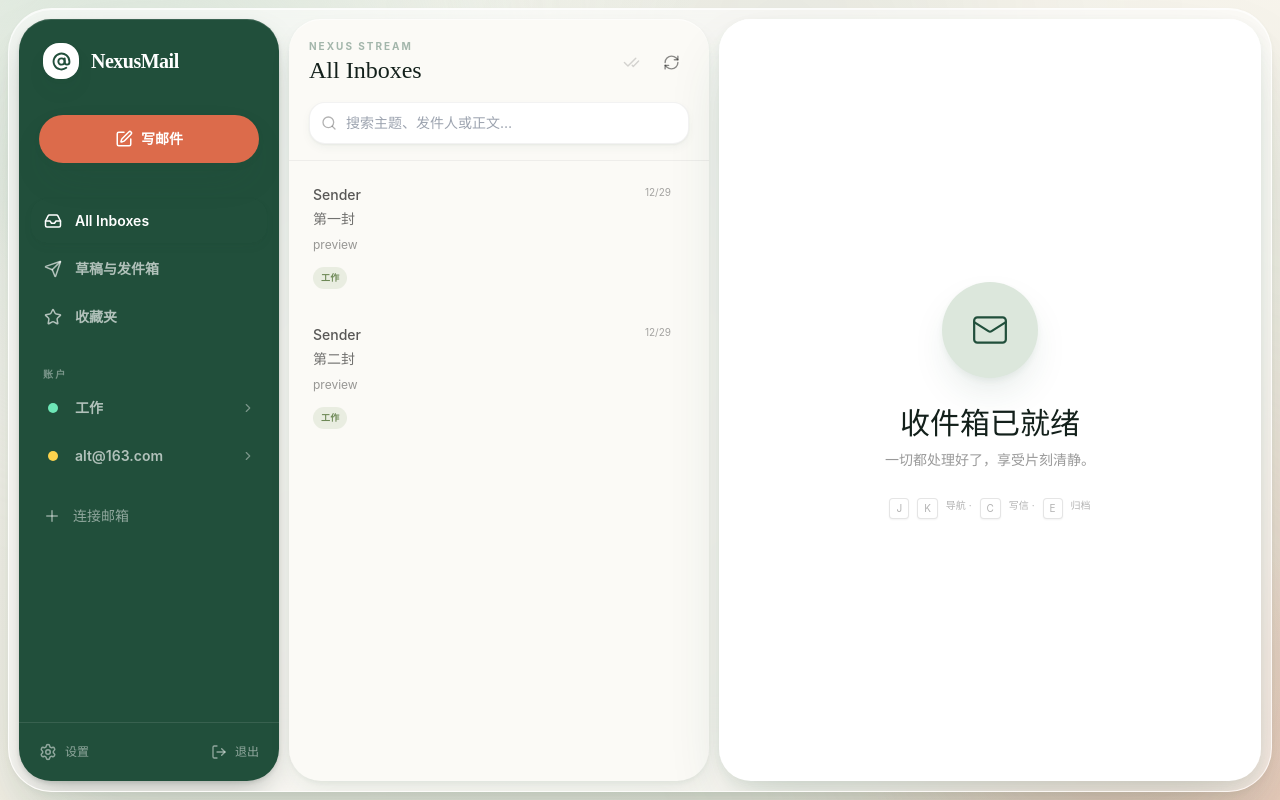
it: view scoping › scopes to one account and titles the list with it
expect the button "Sender 12/29 第一封 preview 工作" is shown: met, box [297,169,701,304]
Click the button "工作" at (149, 408), box [31,386,267,430]
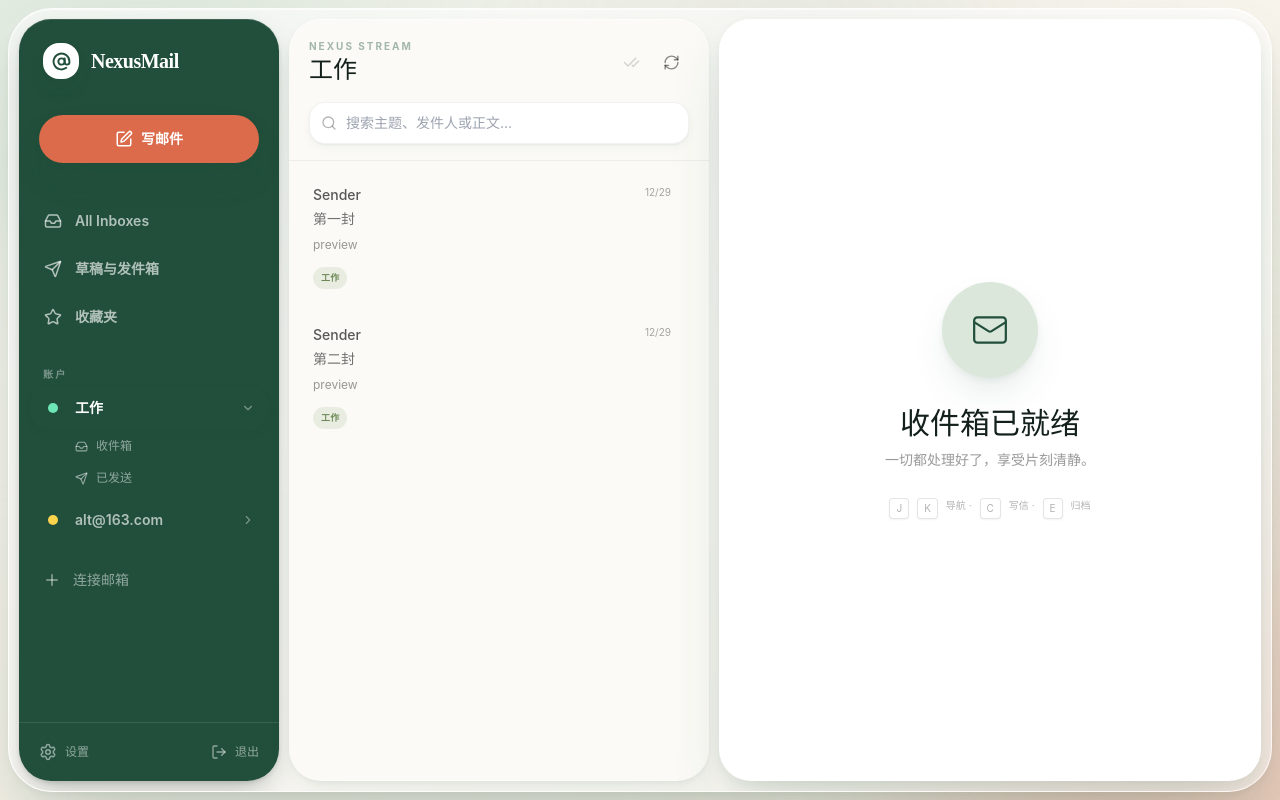
expect the heading "工作" is shown: met, box [309,57,357,83]
